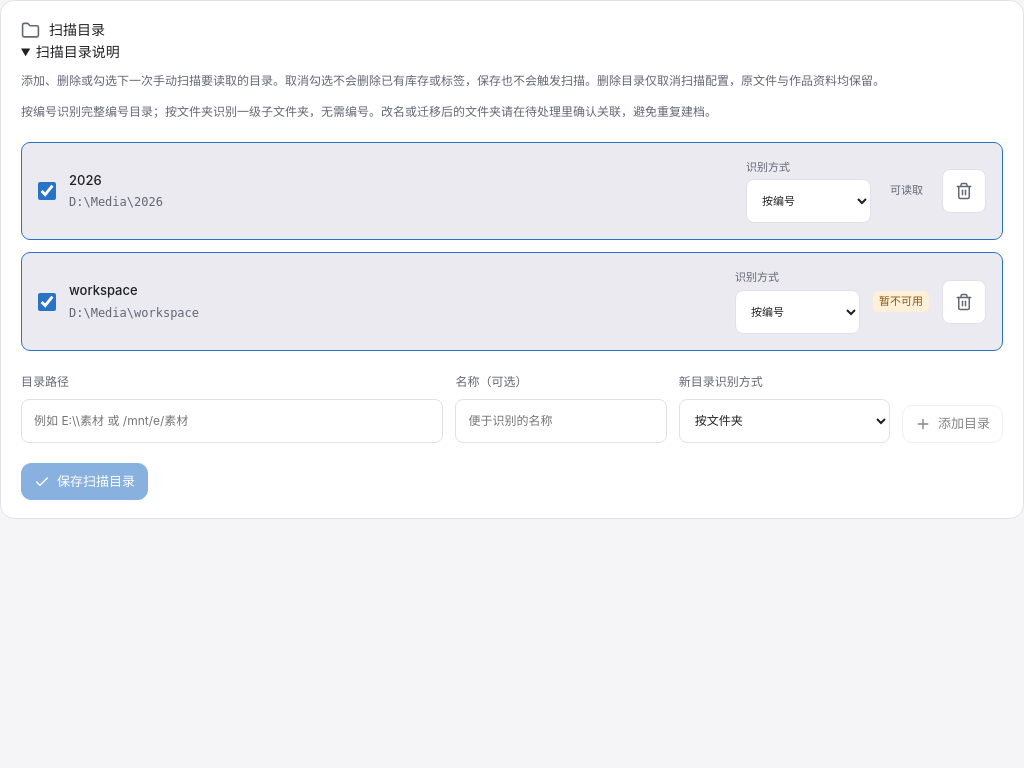
Test: persisted scan directory selection › retains failed choices and supports retry without reselecting
What coordinates should you click on to do the following:
click the checkbox named "扫描 workspace"
I would click on:
 (47, 302)
Its box is [38,293,56,311].
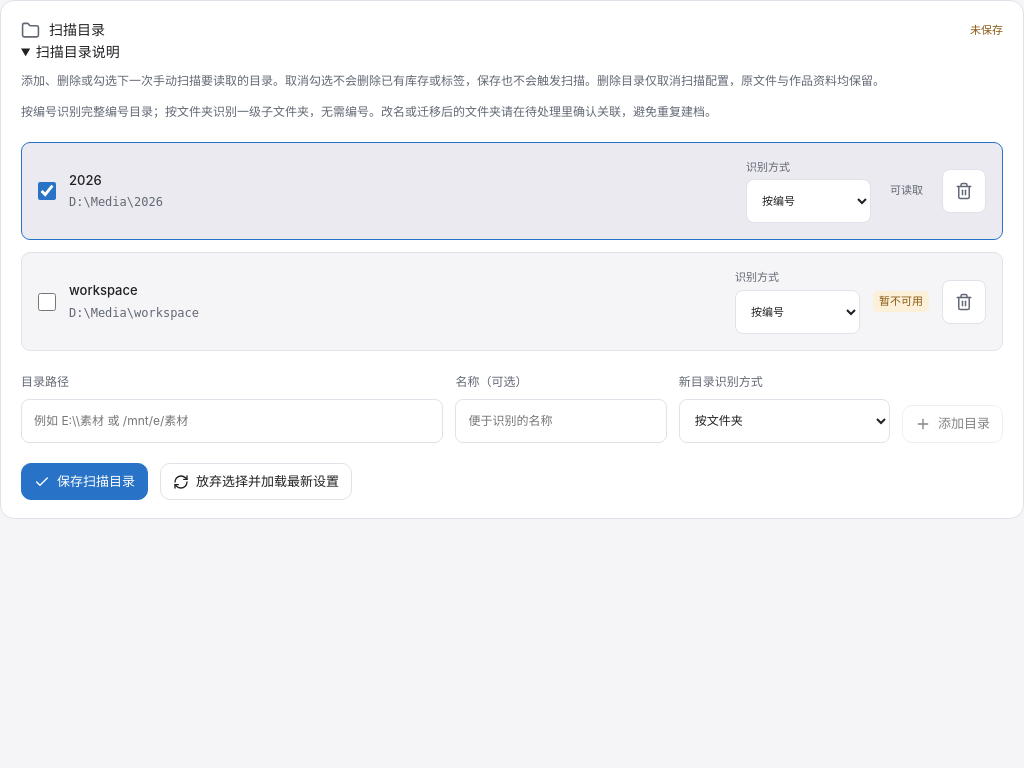
What coordinates should you click on to do the following:
click the button "保存扫描目录"
I would click on:
 (84, 482)
Its box is [21,463,148,500].
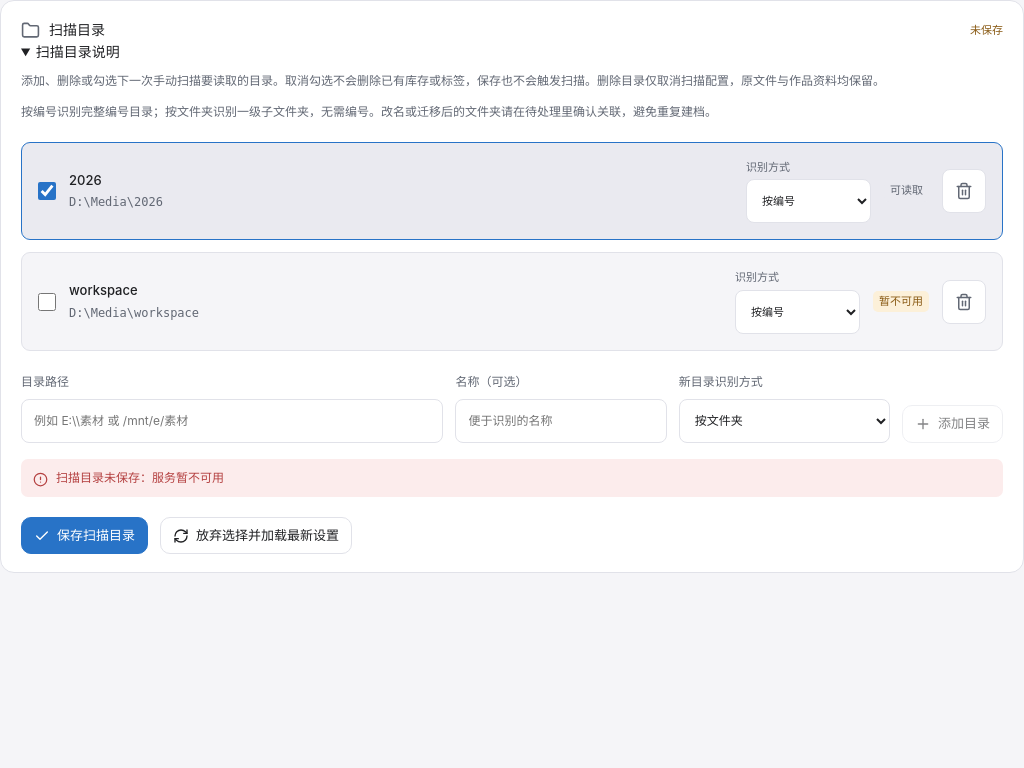
Expected: the checkbox named "扫描 workspace" is not checked, [38,293,56,311]
Expected: the button "保存扫描目录" is enabled
Expected: the text "扫描目录未保存：服务暂不可用" is shown, [21,459,1003,497]
What coordinates should you click on to do the following:
click the button "保存扫描目录"
I would click on:
 (84, 536)
Its box is [21,517,148,554].
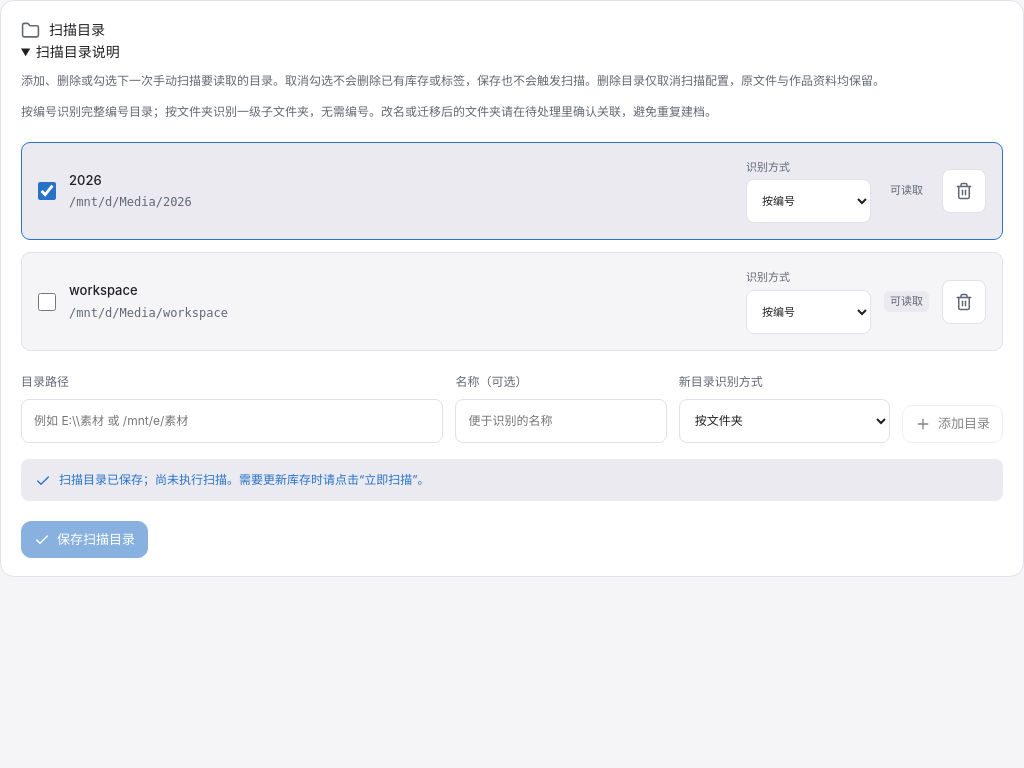
Expected: the text "扫描目录已保存；尚未执行扫描。需要更新库存时请点击“立即扫描”。" is shown, [21,459,1003,501]
